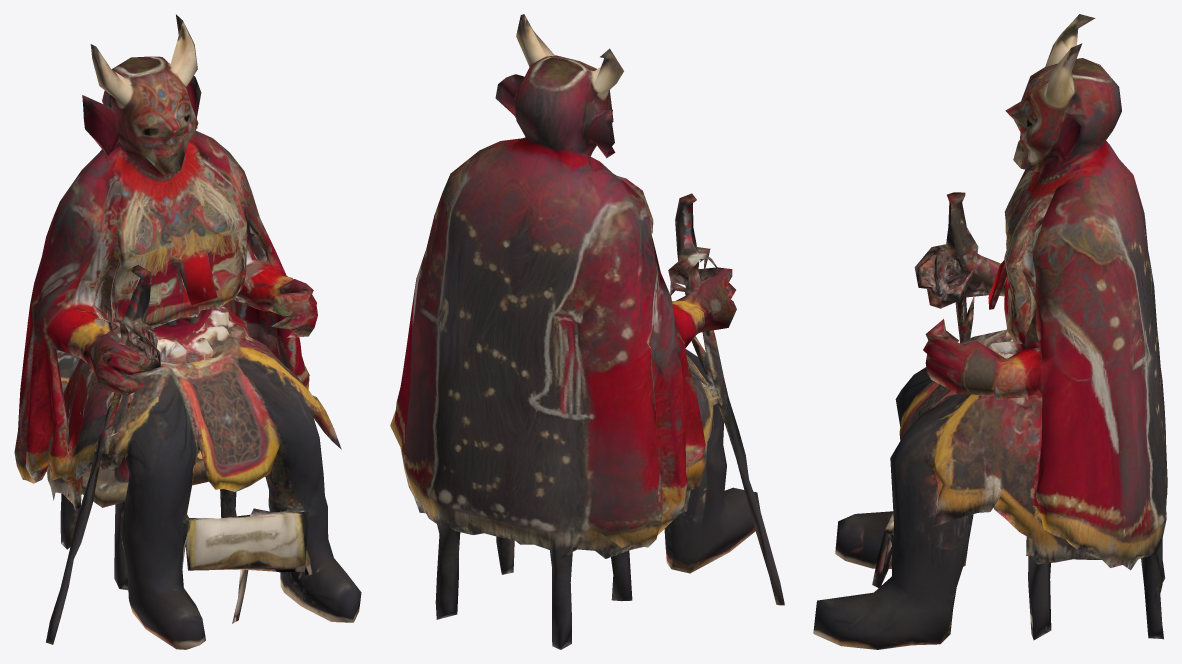
The model's file is Tio.fbx.
3 views of the same model, side by side, from view 1: azimuth 30°, elevation 25°; view 2: azimuth 150°, elevation 25°; view 3: azimuth 270°, elevation 25° (orthographic). The views are drawn at different scales.
Visible parts, largest first — view 1: Mesh1.0; view 2: Mesh1.0; view 3: Mesh1.0.
Boxes of the visible parts, x1=… form: Mesh1.0: x1=14, y1=14, x2=361, y2=649; Mesh1.0: x1=390, y1=14, x2=784, y2=649; Mesh1.0: x1=813, y1=14, x2=1167, y2=649.
Size of the model in its own units: 114 by 192 by 107.
1 material, 1 textured.
